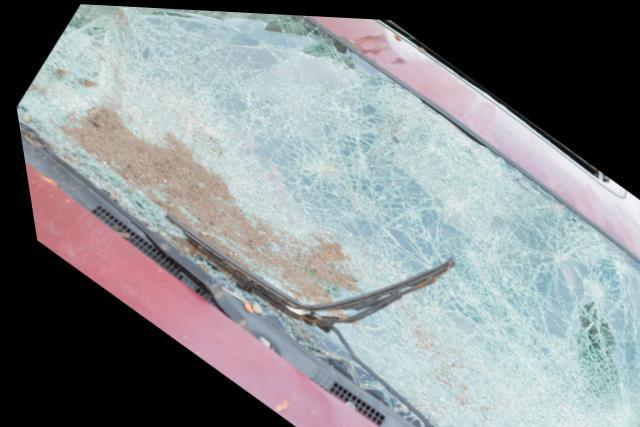glass shatter: (13, 3, 640, 427)
